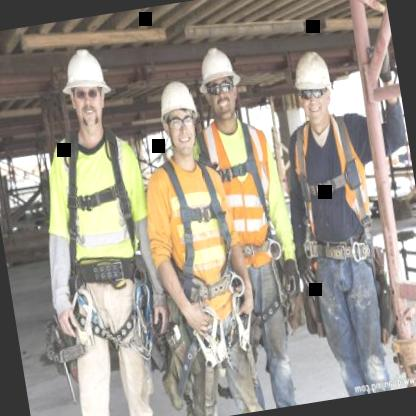helmet: (56, 42, 118, 145), (190, 38, 248, 128), (285, 43, 341, 130), (150, 73, 206, 160)
